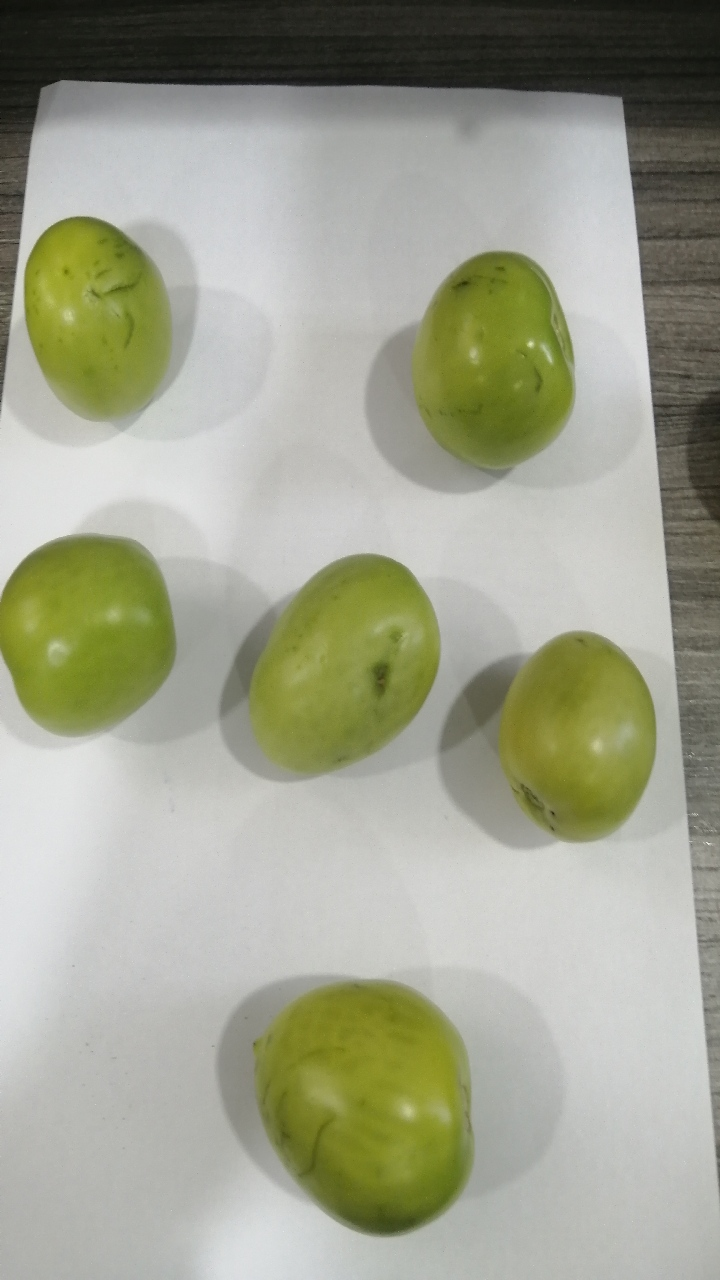tomateVerde: (218, 928, 501, 1252), (221, 551, 466, 802), (471, 603, 675, 866), (11, 194, 215, 457), (1, 506, 198, 768), (391, 231, 591, 488)
